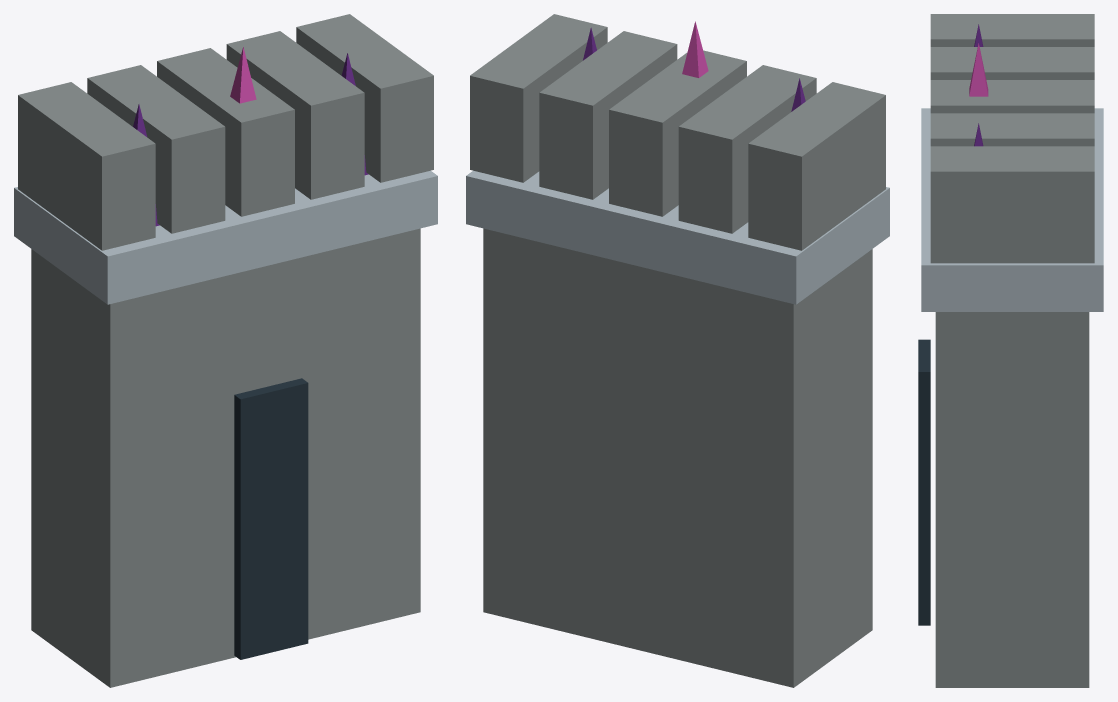
Rendered from defense.obj.
3 views of the same model, side by side, from view 1: azimuth 30°, elevation 25°; view 2: azimuth 150°, elevation 25°; view 3: azimuth 270°, elevation 25° (orthographic). The views are drawn at different scales.
Visible parts, largest first — view 1: defense; view 2: defense; view 3: defense.
Boxes of the visible parts, <box> form: defense: <box>14,14,437,687</box>; defense: <box>466,14,889,687</box>; defense: <box>918,14,1103,687</box>.
Size of the model in its own units: 1.66 by 2.8 by 0.8235.
